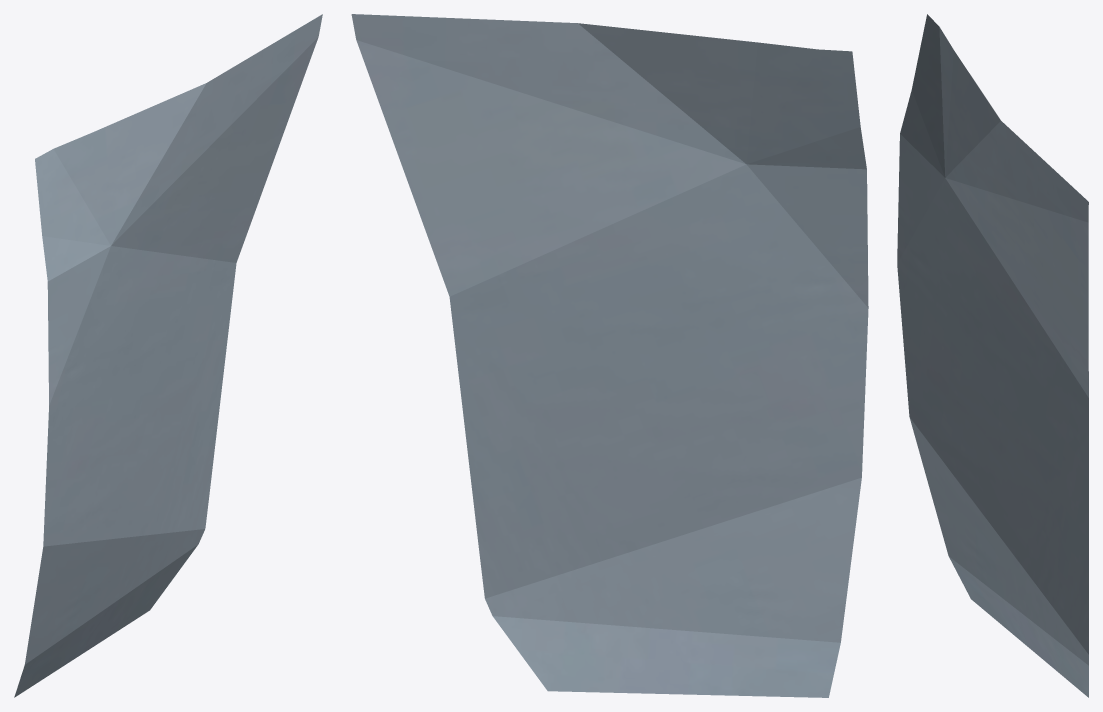
3 renders of one model, left to right at view 1: azimuth 30°, elevation 25°; view 2: azimuth 150°, elevation 25°; view 3: azimuth 270°, elevation 25°, orthographic. The views are drawn at different scales.
Size of the model in its own units: 1.15 by 1.67 by 0.4971.
Materials: 2 (2 with a texture image).
